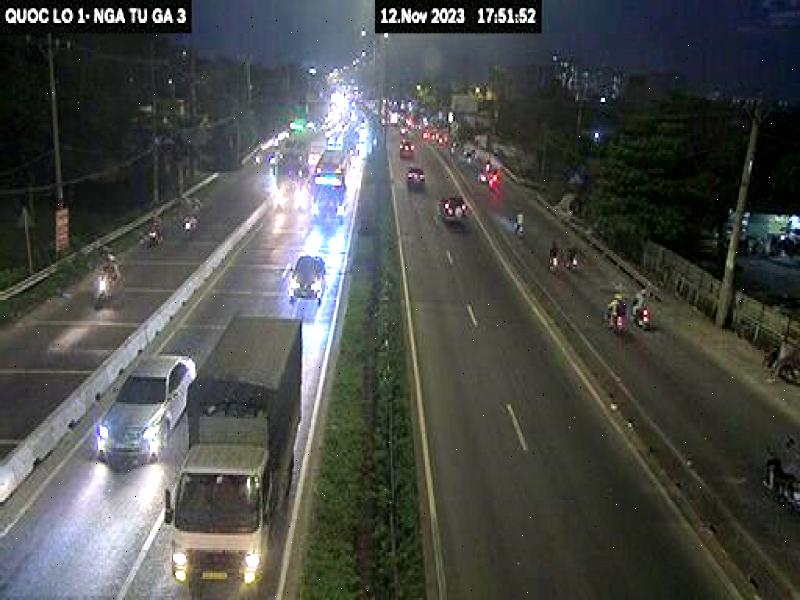truck: (157, 313, 305, 600)
